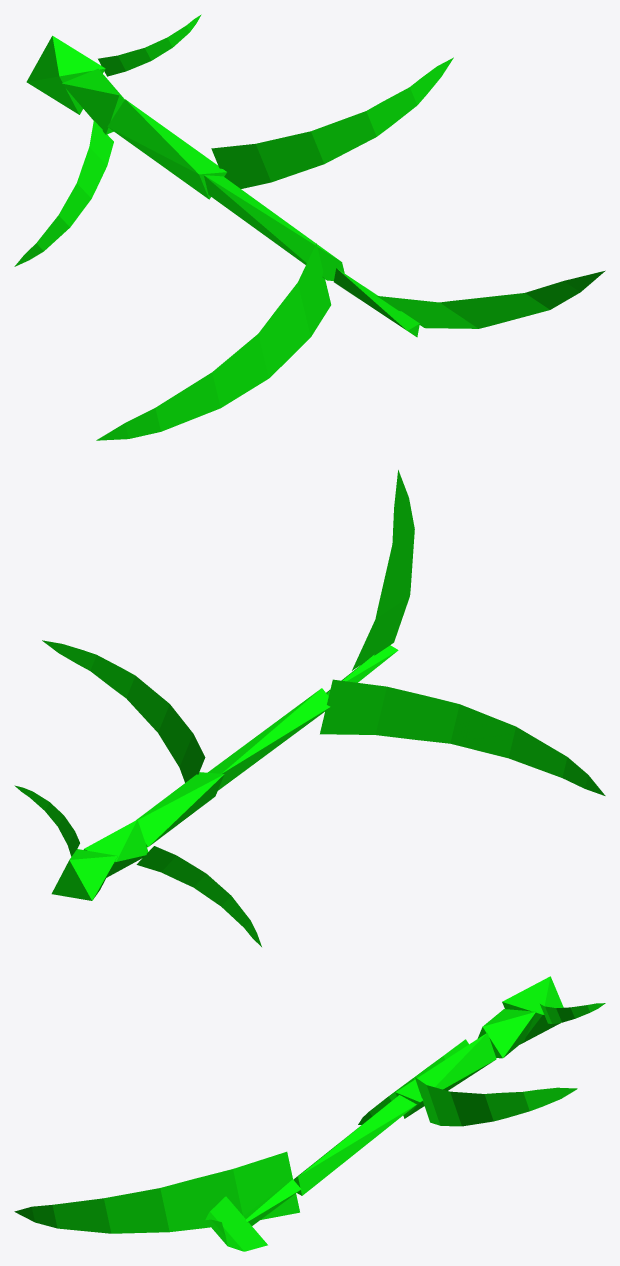
The model's file is usm_2_2.5D_2018-08-03_3.obj.
3 views of the same model, one above another, from view 1: azimuth 30°, elevation 25°; view 2: azimuth 150°, elevation 25°; view 3: azimuth 330°, elevation 25° (orthographic). The views are drawn at different scales.
Visible parts, largest first — view 1: vid_10, vid_8, vid_12, vid_7, vid_9, vid_6, vid_3, vid_5, vid_4, vid_11; view 2: vid_10, vid_8, vid_12, vid_9, vid_7, vid_6, vid_3, vid_5, vid_4, vid_11; view 3: vid_10, vid_8, vid_9, vid_7, vid_12, vid_3, vid_5, vid_11, vid_4, vid_6.
Part boxes in pixels (x1=…): vid_10: x1=96, y1=243, x2=331, y2=440; vid_8: x1=211, y1=57, x2=453, y2=188; vid_12: x1=377, y1=270, x2=605, y2=328; vid_7: x1=107, y1=99, x2=226, y2=199; vid_9: x1=204, y1=175, x2=344, y2=280; vid_6: x1=14, y1=120, x2=113, y2=266; vid_3: x1=26, y1=35, x2=105, y2=114; vid_5: x1=62, y1=68, x2=124, y2=134; vid_4: x1=98, y1=14, x2=201, y2=76; vid_11: x1=333, y1=268, x2=419, y2=337; vid_10: x1=320, y1=679, x2=605, y2=795; vid_8: x1=42, y1=640, x2=205, y2=782; vid_12: x1=352, y1=470, x2=414, y2=670; vid_9: x1=208, y1=688, x2=330, y2=790; vid_7: x1=136, y1=772, x2=224, y2=847; vid_6: x1=136, y1=846, x2=261, y2=946; vid_3: x1=51, y1=849, x2=117, y2=900; vid_5: x1=83, y1=819, x2=148, y2=877; vid_4: x1=14, y1=785, x2=79, y2=856; vid_11: x1=326, y1=645, x2=398, y2=695; vid_10: x1=14, y1=1151, x2=299, y2=1233; vid_8: x1=415, y1=1077, x2=577, y2=1126; vid_9: x1=293, y1=1095, x2=416, y2=1195; vid_7: x1=395, y1=1032, x2=496, y2=1118; vid_12: x1=205, y1=1196, x2=267, y2=1251; vid_3: x1=502, y1=976, x2=563, y2=1044; vid_5: x1=477, y1=1009, x2=535, y2=1058; vid_11: x1=243, y1=1179, x2=301, y2=1225; vid_4: x1=540, y1=1003, x2=605, y2=1023; vid_6: x1=358, y1=1039, x2=468, y2=1124.
Bounding box in the file's own units: 35.3 × 14.61 × 56.71.
